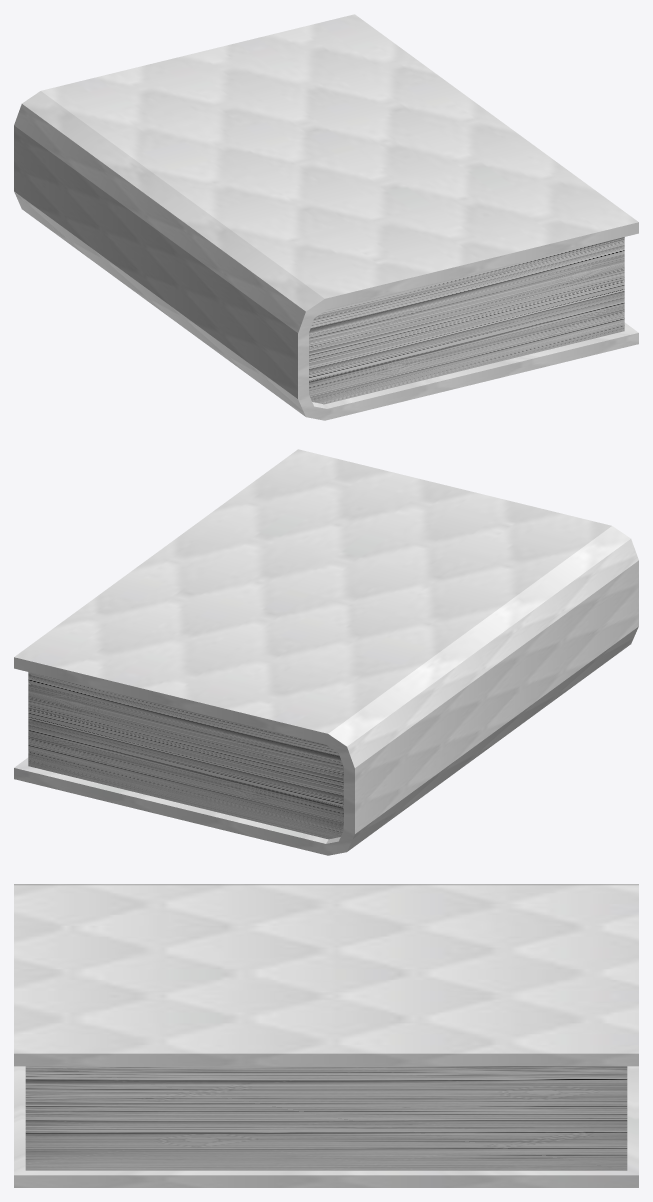
File: Book.glb
The picture shows the model from 3 angles, top to bottom: view 1: azimuth 30°, elevation 25°; view 2: azimuth 150°, elevation 25°; view 3: azimuth 270°, elevation 25°; orthographic projection. The views are drawn at different scales.
Parts seen in each view (by area): view 1: Cube; view 2: Cube; view 3: Cube.
Part boxes in pixels (x1,y1,x2,y2): Cube: (14, 14, 638, 420); Cube: (14, 449, 638, 855); Cube: (14, 884, 638, 1187).
Bounding box in the file's own units: 0.3302 × 0.1128 × 0.4768.
Materials: 2 (2 with a texture image).
